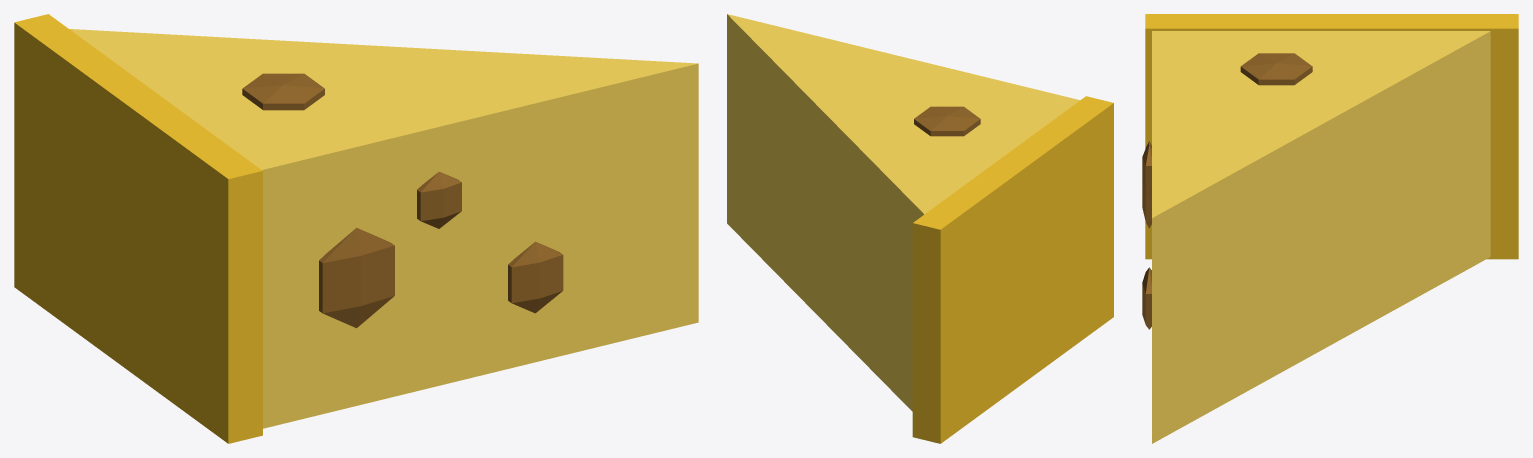
The model's file is cheese.fbx.
3 renders of one model, left to right at view 1: azimuth 30°, elevation 25°; view 2: azimuth 150°, elevation 25°; view 3: azimuth 270°, elevation 25°, orthographic. The views are drawn at different scales.
Visible parts, largest first — view 1: Cheese; view 2: Cheese; view 3: Cheese.
Boxes of the visible parts, x1=… form: Cheese: x1=14, y1=14, x2=698, y2=443; Cheese: x1=727, y1=14, x2=1113, y2=443; Cheese: x1=1142, y1=14, x2=1518, y2=443.
Size of the model in its own units: 0.345 by 0.189 by 0.2722.
1 material, 1 textured.
